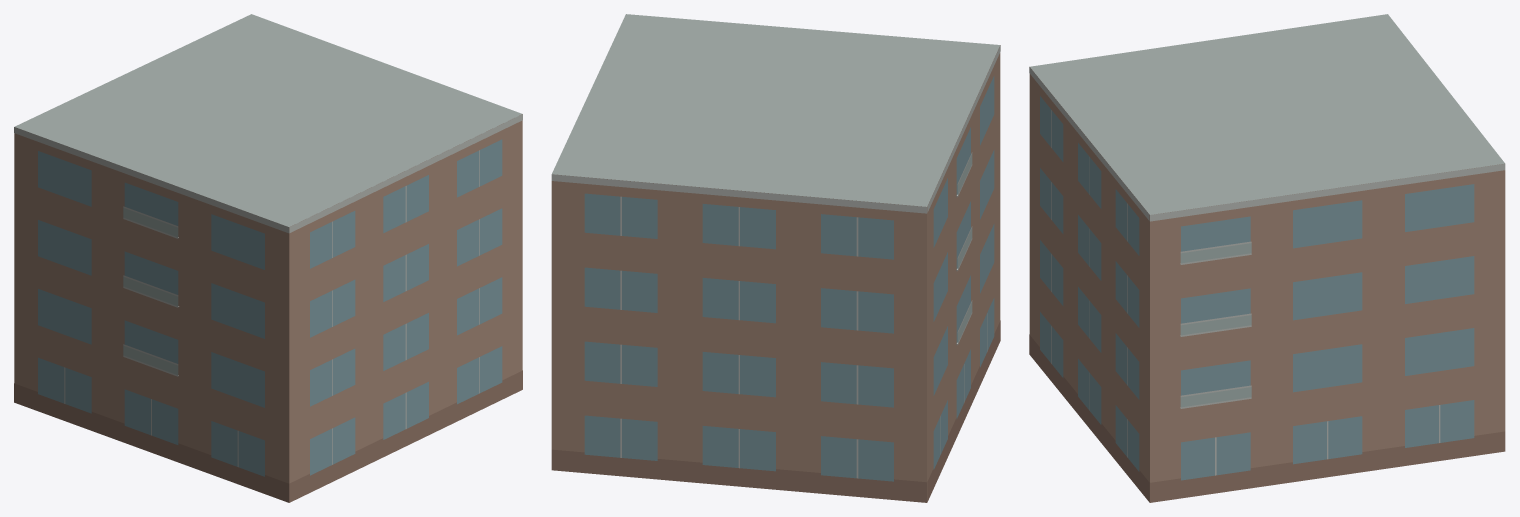
File: survey-upis-32907667.glb
3 views of the same model, side by side, from view 1: azimuth 30°, elevation 25°; view 2: azimuth 150°, elevation 25°; view 3: azimuth 270°, elevation 25° (orthographic). The views are drawn at different scales.
Parts seen in each view (by area): view 1: survey-upis-32907667.tmp; view 2: survey-upis-32907667.tmp; view 3: survey-upis-32907667.tmp.
Part boxes in pixels (bbox=[...]): survey-upis-32907667.tmp: bbox=[14, 14, 522, 502]; survey-upis-32907667.tmp: bbox=[551, 14, 1000, 502]; survey-upis-32907667.tmp: bbox=[1029, 14, 1505, 502].
Bounding box in the file's own units: 16.03 × 10.7 × 16.04.
